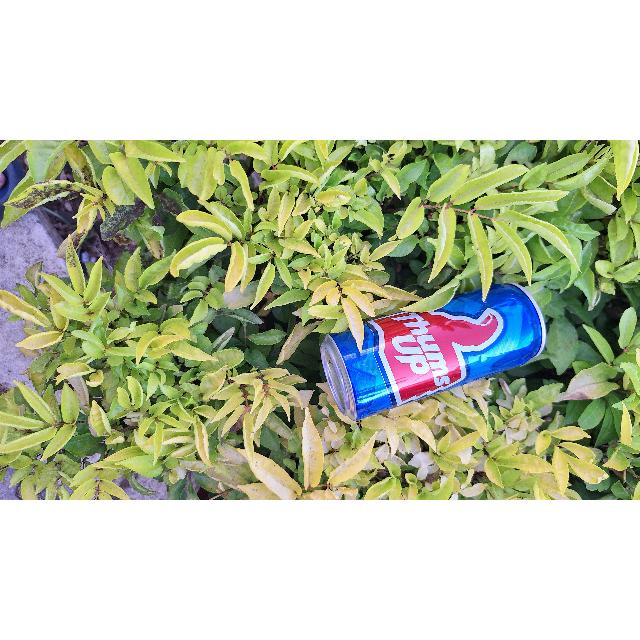Thums Up: (314, 272, 548, 424)
